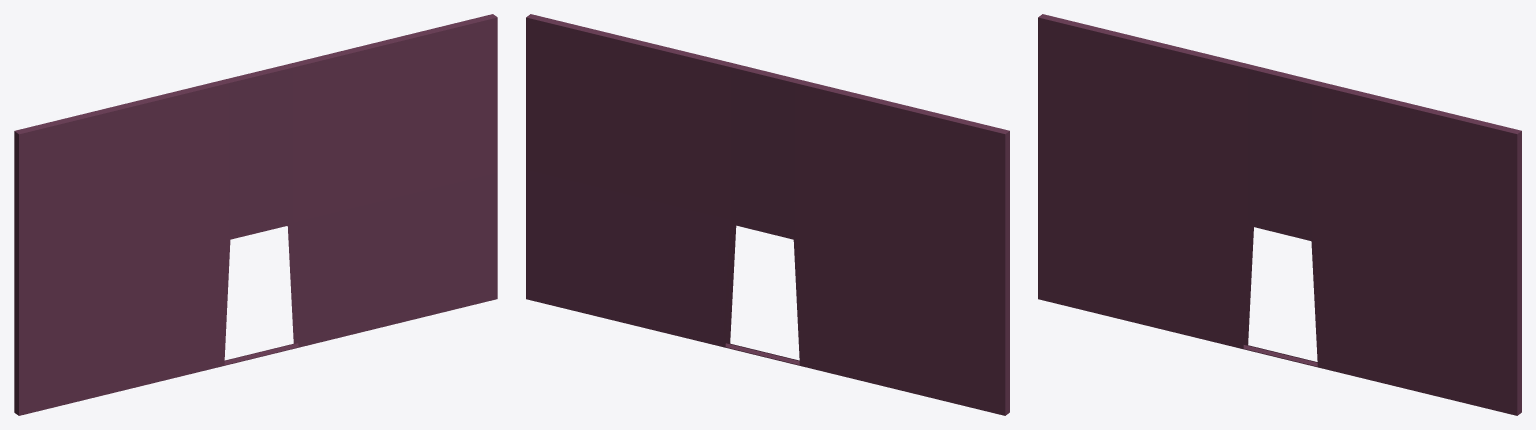
File: Wall2.fbx
The picture shows the model from 3 angles, left to right: view 1: azimuth 30°, elevation 25°; view 2: azimuth 150°, elevation 25°; view 3: azimuth 330°, elevation 25°; orthographic projection.
Parts seen in each view (by area): view 1: Wall5; view 2: Wall5; view 3: Wall5.
Boxes of the visible parts, x1=… form: Wall5: x1=14, y1=14, x2=497, y2=415; Wall5: x1=526, y1=14, x2=1009, y2=415; Wall5: x1=1038, y1=14, x2=1521, y2=415.
Bounding box in the file's own units: 539 × 303 × 9.51.
